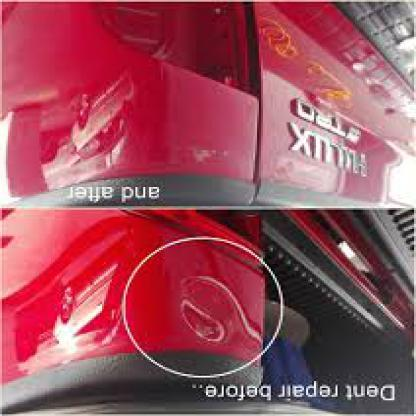dent: (168, 268, 268, 350)
